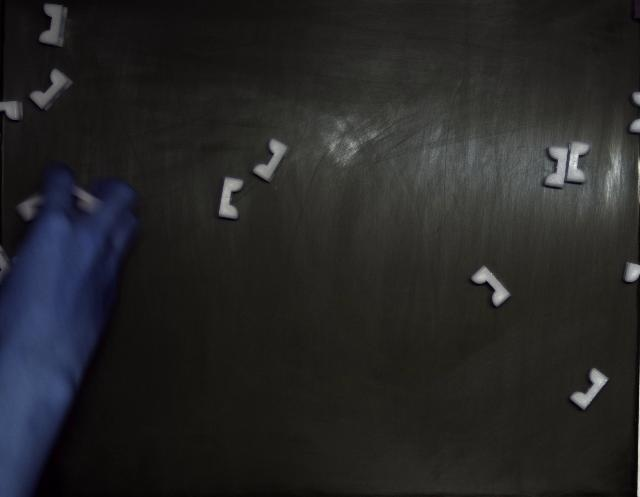third_side: (30, 69, 72, 111), (471, 266, 510, 308), (570, 369, 609, 410), (252, 139, 289, 182), (39, 4, 68, 46), (544, 146, 569, 189), (565, 141, 590, 184), (219, 178, 244, 220)
